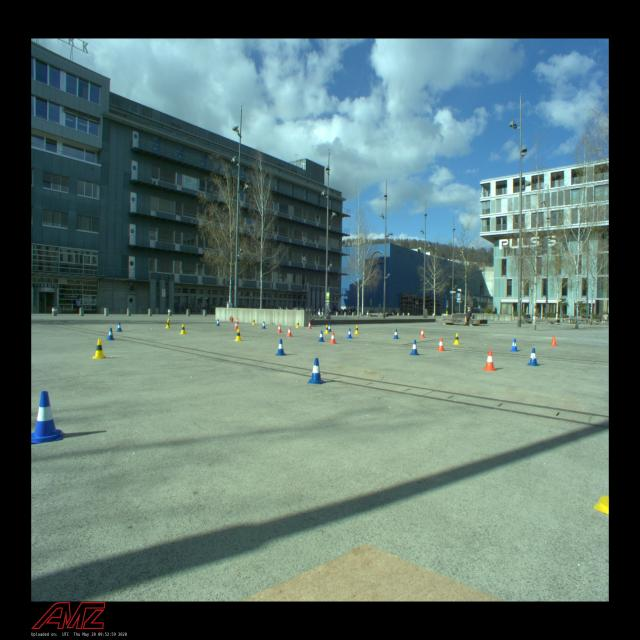blue_cone: (32, 391, 63, 444), (307, 358, 325, 384), (528, 348, 540, 366), (275, 339, 286, 356), (410, 340, 420, 355), (106, 328, 115, 340), (511, 338, 518, 352), (318, 330, 325, 342), (116, 322, 122, 332), (393, 329, 399, 339), (347, 328, 352, 338), (262, 321, 266, 329), (328, 324, 332, 332), (216, 319, 220, 326)
orange_cone: (484, 350, 496, 371), (437, 338, 445, 351), (329, 332, 337, 344), (551, 335, 557, 346), (286, 326, 292, 336), (420, 328, 425, 338), (277, 324, 282, 333), (234, 322, 238, 329), (308, 322, 312, 329), (236, 318, 239, 324)
yellow_cone: (92, 339, 106, 359), (235, 329, 242, 341), (180, 324, 187, 334), (454, 333, 459, 345), (165, 321, 171, 328), (325, 325, 329, 334), (166, 318, 171, 325), (355, 326, 359, 334), (252, 318, 256, 325), (296, 321, 300, 328)
